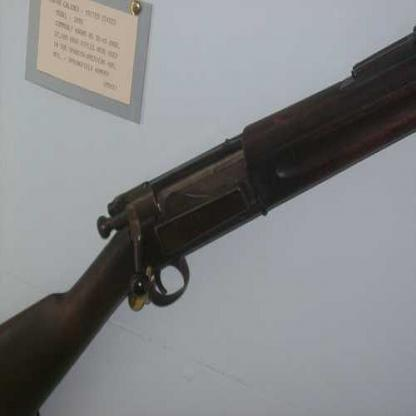Heavy Gun: (0, 35, 416, 416)
